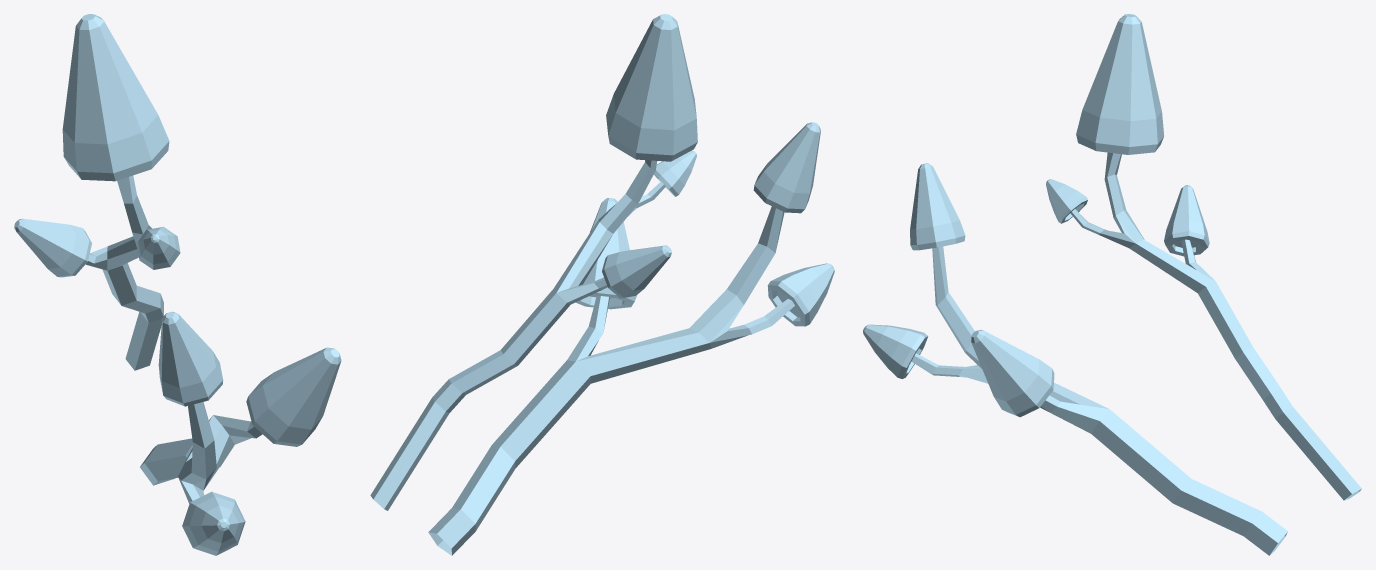
Rendered from Mushrooms_05.fbx.
3 renders of one model, left to right at view 1: azimuth 30°, elevation 25°; view 2: azimuth 150°, elevation 25°; view 3: azimuth 270°, elevation 25°, orthographic. The views are drawn at different scales.
Parts seen in each view (by area): view 1: Mushrooms_05; view 2: Mushrooms_05; view 3: Mushrooms_05.
Part boxes in pixels (box(x1,y1,x2,y2)): Mushrooms_05: box(14, 14, 341, 555); Mushrooms_05: box(370, 14, 834, 555); Mushrooms_05: box(863, 14, 1361, 555).
Bounding box in the file's own units: 0.6076 × 1.3 × 1.37.
